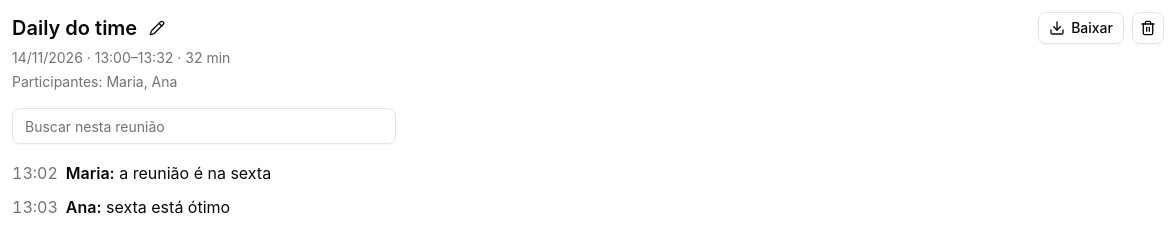
Test: MeetingDetail › busca destaca e conta as ocorrências
The image size is (1176, 234).
Type "sexta" into the field labelled "Buscar nesta reunião" at [204, 126], box [12,108,396,144]
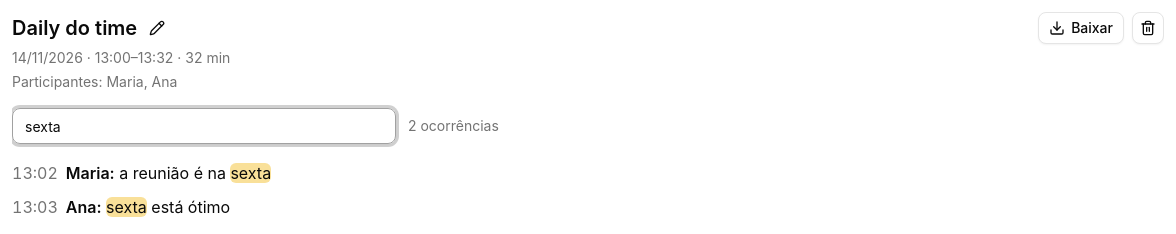
Expected: the text "2 ocorrências" is shown, [408,116,499,136]
